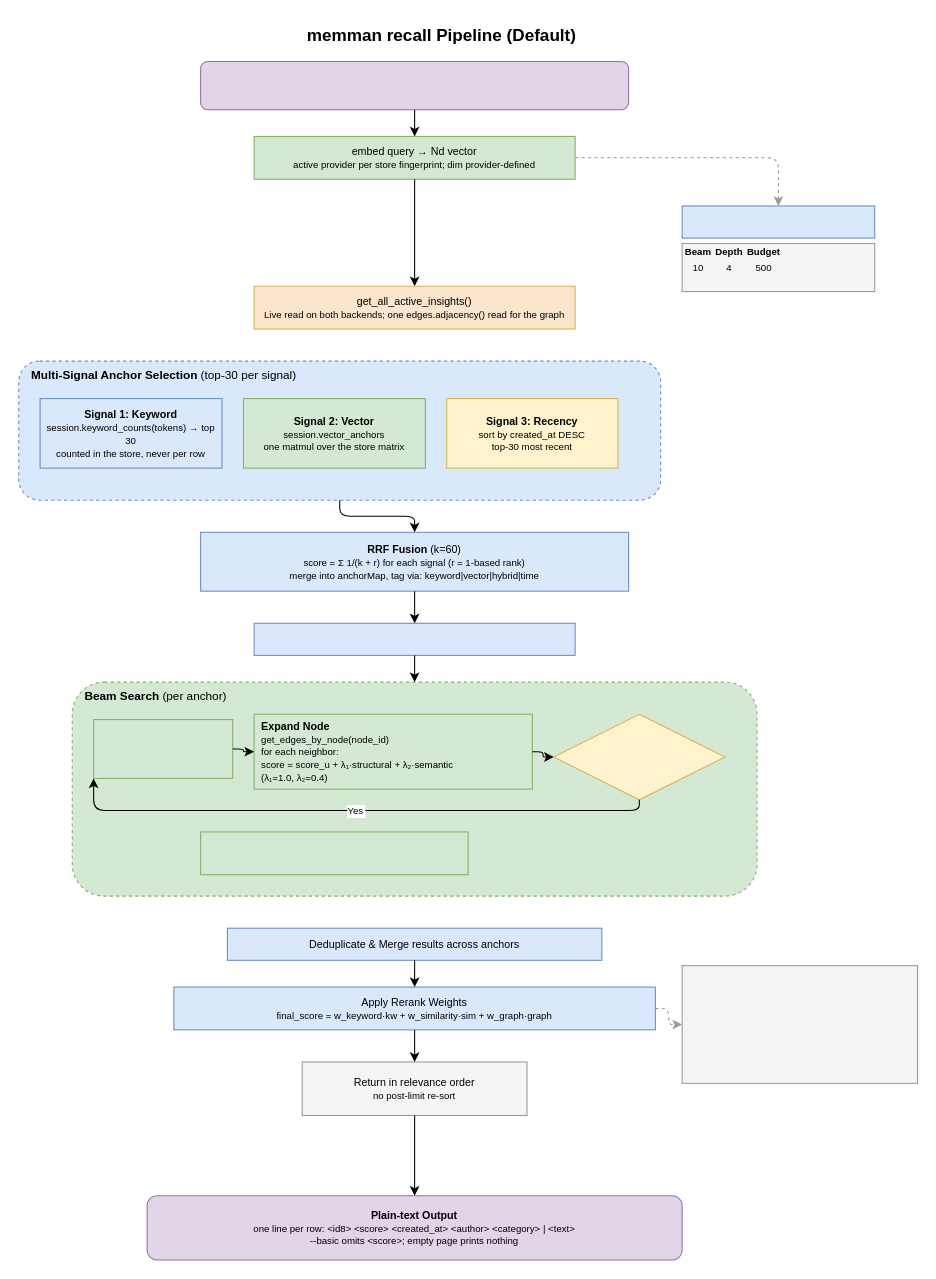
This 936x1279 diagram has some shape labels left out. The shapes that lost their labels are listed below. From the top down, each one's centre as x and y in pixels, then its label:
At [414,85]: "memman recall <query> [--limit N] [--basic]".
At [778,221]: "Fixed Traversal & Rerank Params".
At [414,638]: "Sort anchors by RRF score → select top-K".
At [163,748]: "Priority Queue heapq seed: anchor node".
At [639,756]: "Budget Check visited < MaxVisited? depth < MaxDepth? beam < BeamWidth?".
At [334,853]: "Collect traversed nodes with scores, depth, via_edge_type".
At [799,1024]: "KW Sim Graph 0.25 0.45 0.15".
